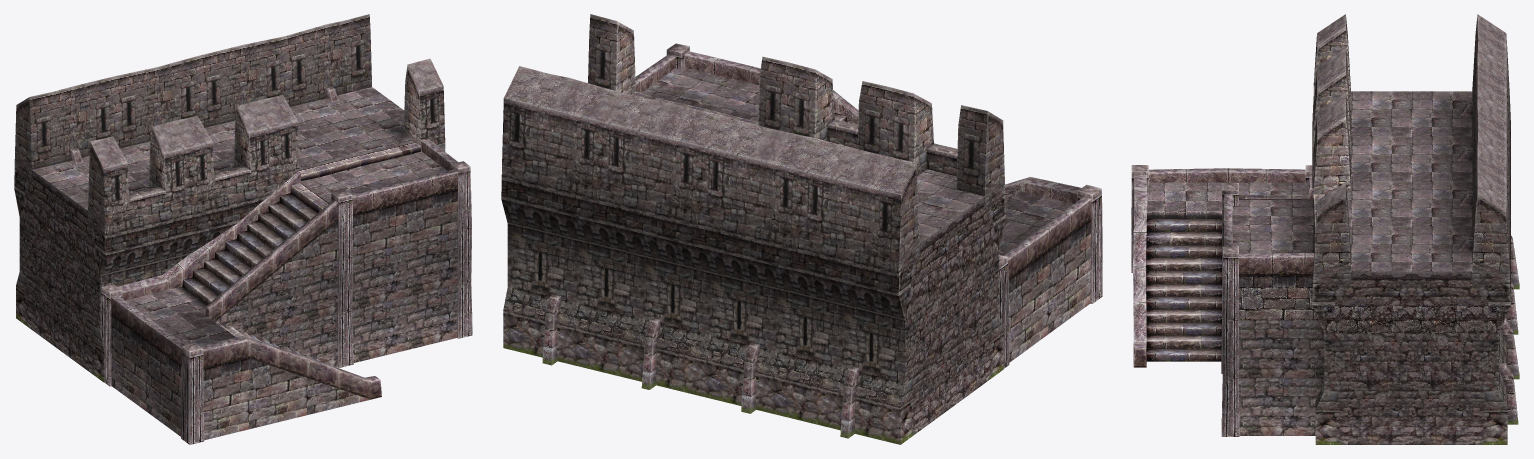
Rendered from OZ_30_hk_gate02C.glb.
The picture shows the model from 3 angles, left to right: view 1: azimuth 30°, elevation 25°; view 2: azimuth 150°, elevation 25°; view 3: azimuth 270°, elevation 25°; orthographic projection. The views are drawn at different scales.
Parts seen in each view (by area): view 1: OM_30_hk_gate02C; view 2: OM_30_hk_gate02C; view 3: OM_30_hk_gate02C.
Boxes of the visible parts, x1,y1,x2,y2 form: OM_30_hk_gate02C: [14, 14, 472, 444]; OM_30_hk_gate02C: [501, 14, 1102, 444]; OM_30_hk_gate02C: [1131, 14, 1519, 444].
Bounding box in the file's own units: 20 × 13.01 × 18.24.
Materials: 4 (4 with a texture image).
